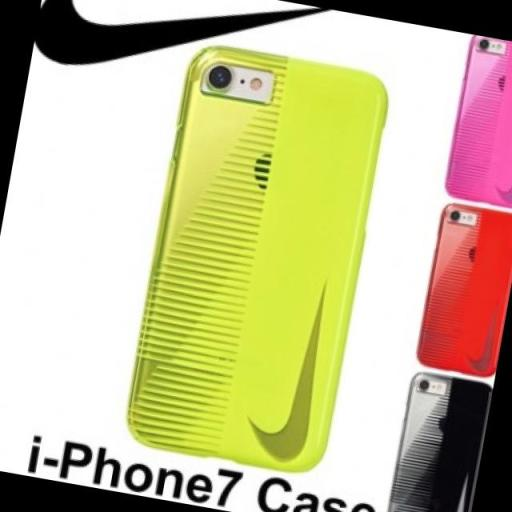Nike: (240, 266, 343, 467)
